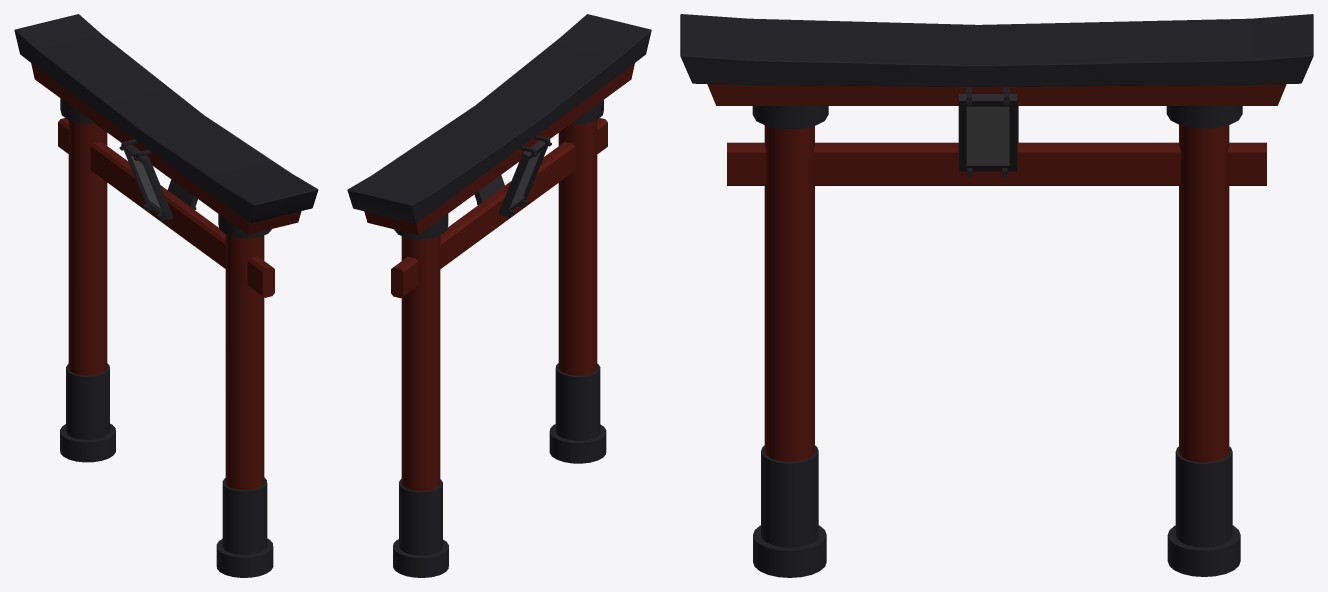
Rendered from arch03.fbx.
3 renders of one model, left to right at view 1: azimuth 30°, elevation 25°; view 2: azimuth 150°, elevation 25°; view 3: azimuth 270°, elevation 25°, orthographic. The views are drawn at different scales.
Visible parts, largest first — view 1: arch03; view 2: arch03; view 3: arch03.
Boxes of the visible parts, <box> form: arch03: <box>14,14,318,577</box>; arch03: <box>347,14,651,577</box>; arch03: <box>680,14,1313,577</box>.
Size of the model in its own units: 233 by 1085 by 1181.
